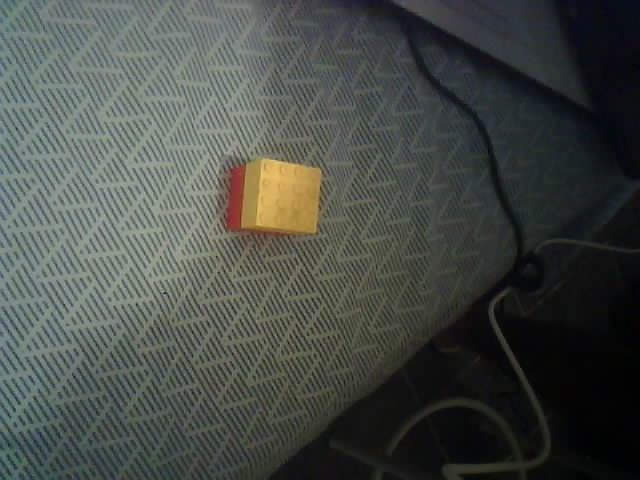lego: (226, 158, 322, 238)
